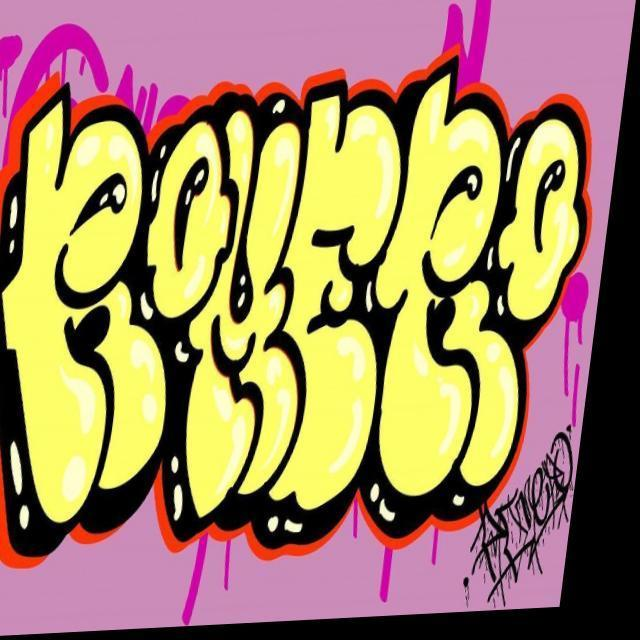-: (0, 46, 613, 572), (477, 436, 587, 602)
